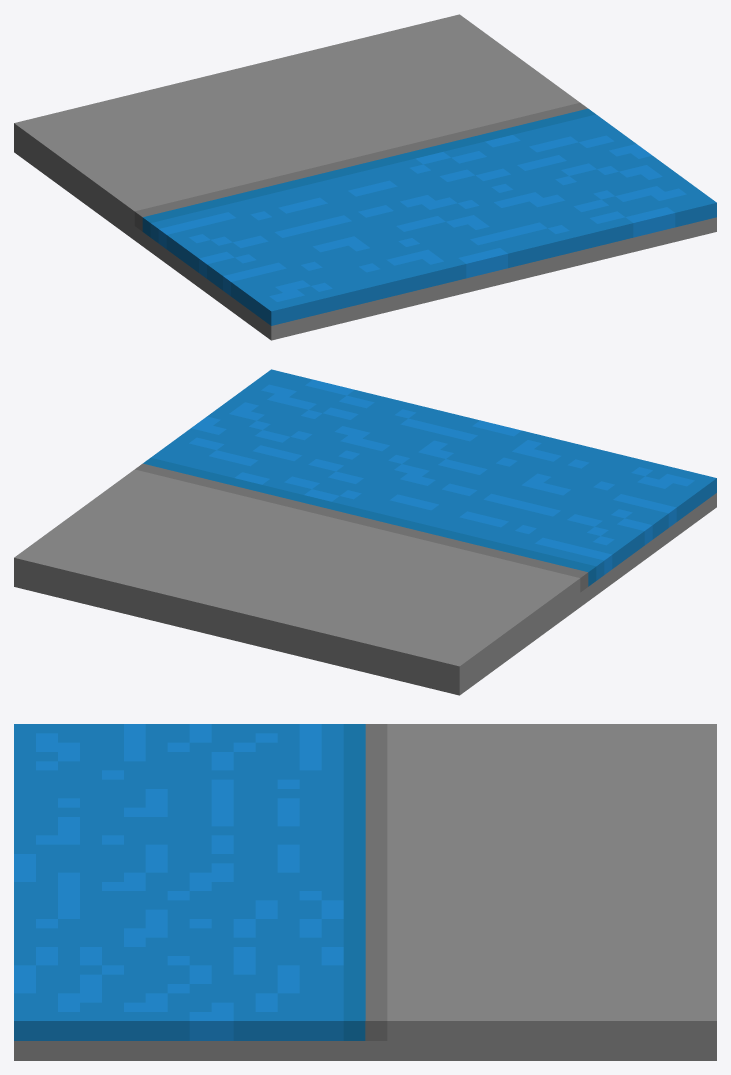
Rendered from city-water-side-2.gltf.
The picture shows the model from 3 angles, top to bottom: view 1: azimuth 30°, elevation 25°; view 2: azimuth 150°, elevation 25°; view 3: azimuth 270°, elevation 25°; orthographic projection. The views are drawn at different scales.
Parts seen in each view (by area): view 1: city-water-side-2; view 2: city-water-side-2; view 3: city-water-side-2.
Boxes of the visible parts, <box> form: city-water-side-2: <box>14,14,716,340</box>; city-water-side-2: <box>14,369,716,695</box>; city-water-side-2: <box>14,724,716,1060</box>.
Bounding box in the file's own units: 3.2 × 0.2 × 3.2.
Materials: 1 (1 with a texture image).
